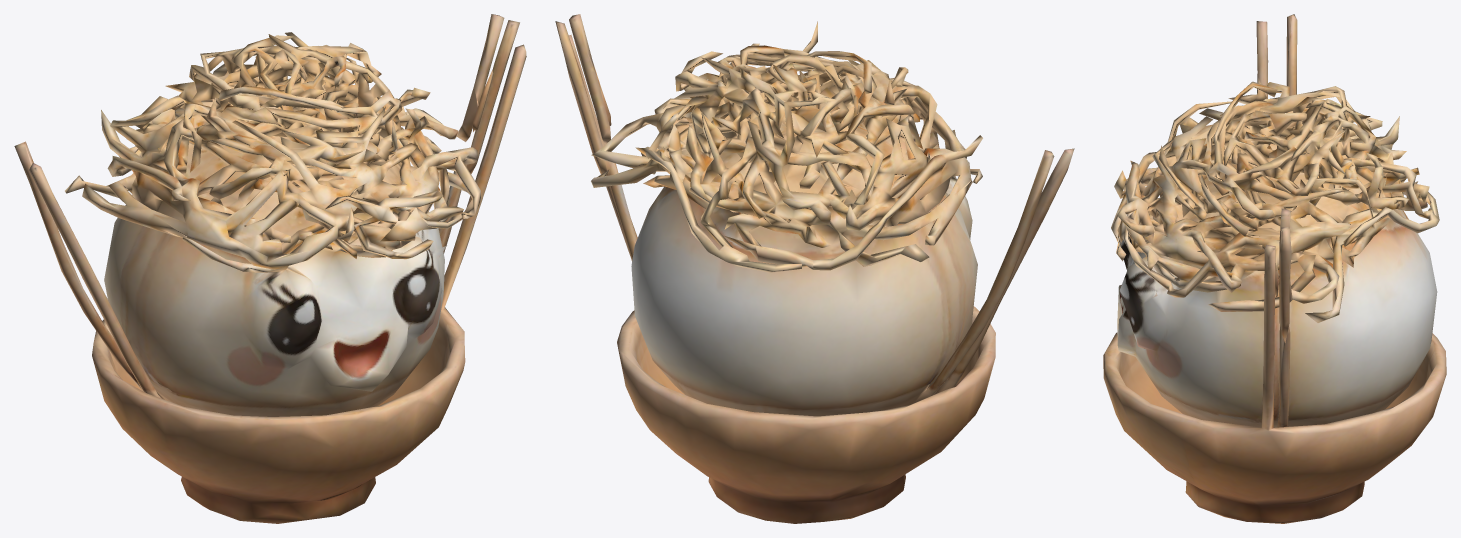
File: 쌀국수몬.glb
The picture shows the model from 3 angles, left to right: view 1: azimuth 30°, elevation 25°; view 2: azimuth 150°, elevation 25°; view 3: azimuth 270°, elevation 25°; orthographic projection. The views are drawn at different scales.
Bounding box in the file's own units: 2 × 1.63 × 1.29.
Materials: 1 (1 with a texture image).
